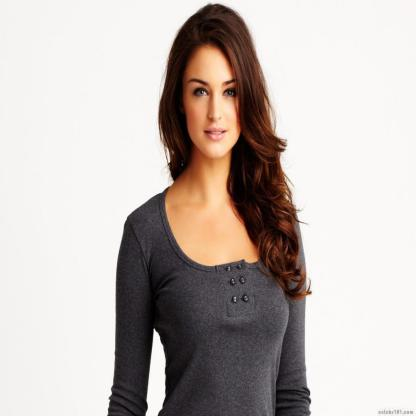long-hair: (148, 158, 277, 190)
